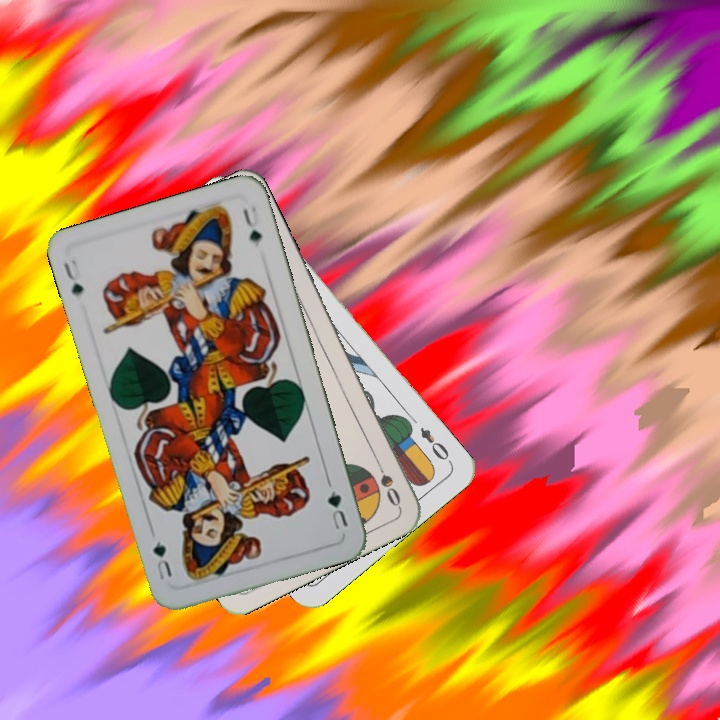EO: (416, 423, 455, 466)
GU: (323, 486, 351, 534), (59, 255, 86, 299)
SO: (371, 454, 404, 509)
